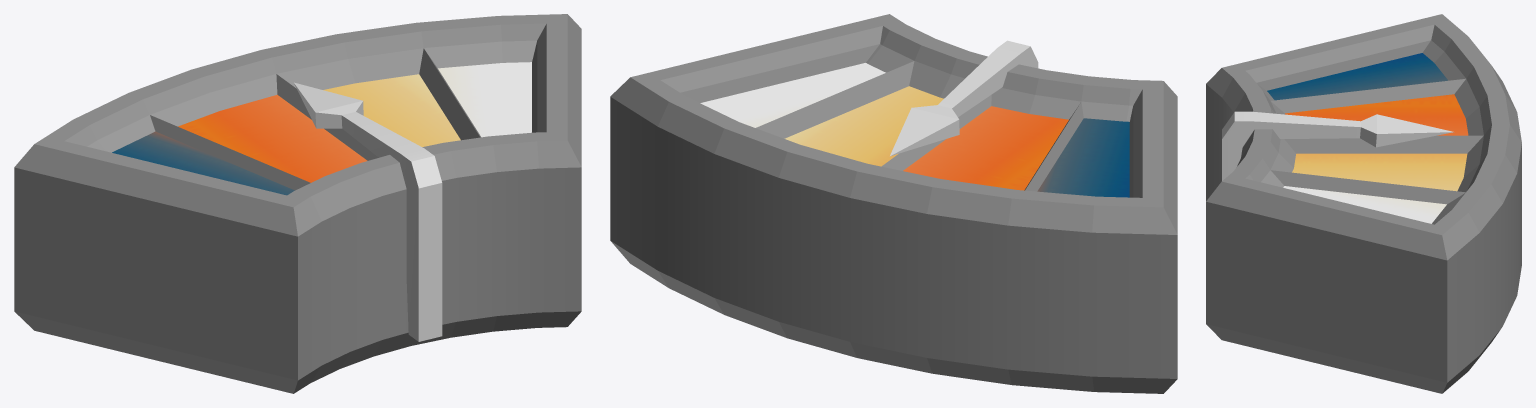
File: firemeter.FBX
The picture shows the model from 3 angles, left to right: view 1: azimuth 30°, elevation 25°; view 2: azimuth 150°, elevation 25°; view 3: azimuth 270°, elevation 25°; orthographic projection. The views are drawn at different scales.
Parts seen in each view (by area): view 1: heatgauge, needle; view 2: heatgauge, needle; view 3: heatgauge, needle.
Boxes of the visible parts, bbox=[...] form: heatgauge: bbox=[14, 14, 581, 393]; needle: bbox=[293, 82, 442, 341]; heatgauge: bbox=[610, 14, 1177, 393]; needle: bbox=[890, 40, 1038, 156]; heatgauge: bbox=[1206, 14, 1521, 393]; needle: bbox=[1222, 111, 1454, 180].
Bounding box in the file's own units: 20 × 6.61 × 11.34.
Materials: 2 (1 with a texture image).
